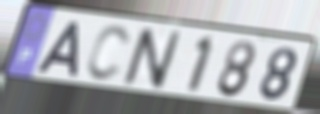1: (185, 35, 217, 95)
8: (214, 39, 258, 100), (259, 46, 299, 102)
A: (34, 20, 83, 79)
C: (83, 24, 132, 85)
N: (120, 26, 185, 92)
